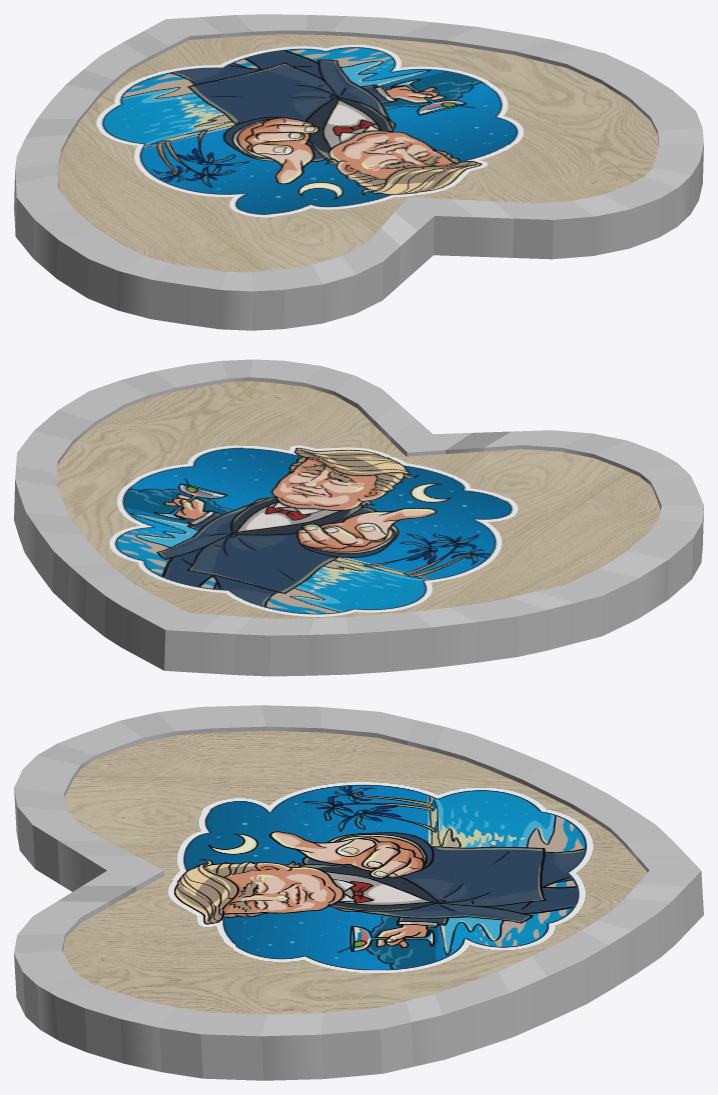
Rendered from Puzzle_39.FBX.
3 renders of one model, top to bottom at view 1: azimuth 30°, elevation 25°; view 2: azimuth 150°, elevation 25°; view 3: azimuth 270°, elevation 25°, orthographic. The views are drawn at different scales.
Visible parts, largest first — view 1: Wood_1, 4, 5, 3, 2, 1; view 2: Wood_1, 4, 5, 3, 2, 1; view 3: Wood_1, 4, 5, 3, 2, 1.
Boxes of the visible parts, <box> form: Wood_1: <box>14,14,703,330</box>; 4: <box>110,34,377,227</box>; 5: <box>58,72,406,272</box>; 3: <box>277,73,570,198</box>; 2: <box>287,34,658,160</box>; 1: <box>413,136,654,203</box>; Wood_1: <box>14,359,703,676</box>; 4: <box>131,491,568,618</box>; 5: <box>292,449,660,618</box>; 3: <box>110,429,405,552</box>; 2: <box>57,386,203,581</box>; 1: <box>195,381,405,461</box>; Wood_1: <box>14,705,703,1080</box>; 4: <box>220,773,647,924</box>; 5: <box>64,731,609,875</box>; 3: <box>165,874,455,975</box>; 2: <box>126,917,600,1014</box>; 1: <box>63,875,246,994</box>.
Bounding box in the file's own units: 4.23 × 0.2898 × 3.72.
